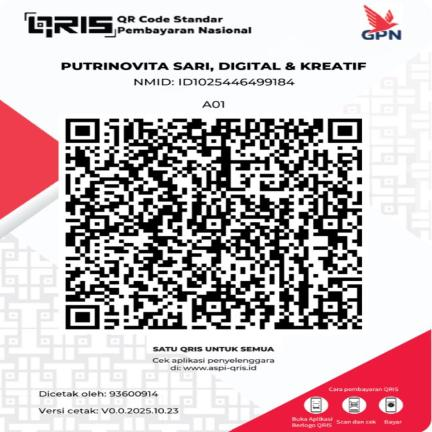Barcode_Asli: (58, 114, 371, 335)
